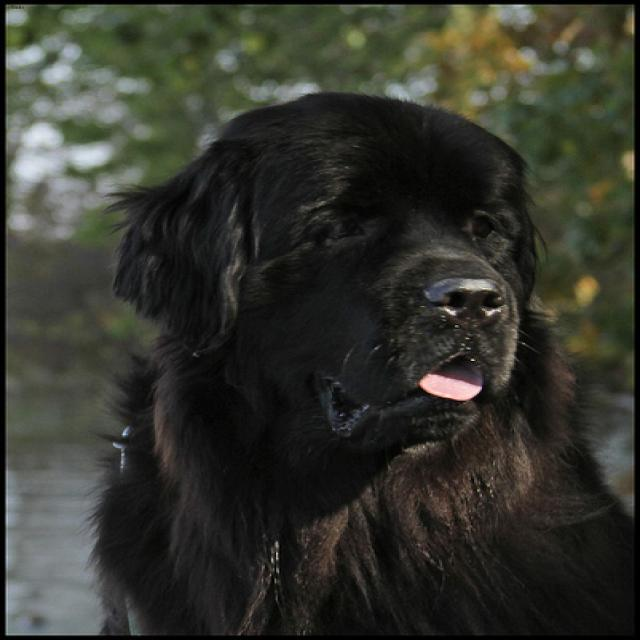dog-newfoundland: (78, 84, 637, 637)
